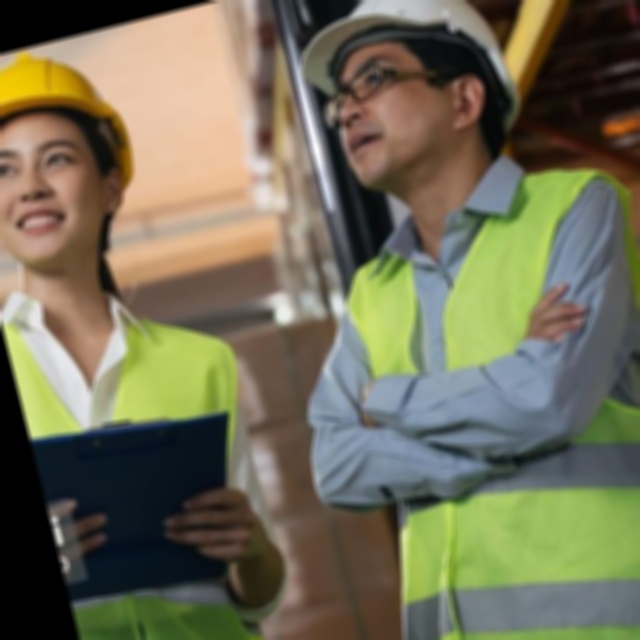Con_Casco: (278, 0, 534, 208), (0, 32, 157, 283)
Con_Chaleco: (287, 149, 640, 640), (0, 259, 327, 640)
